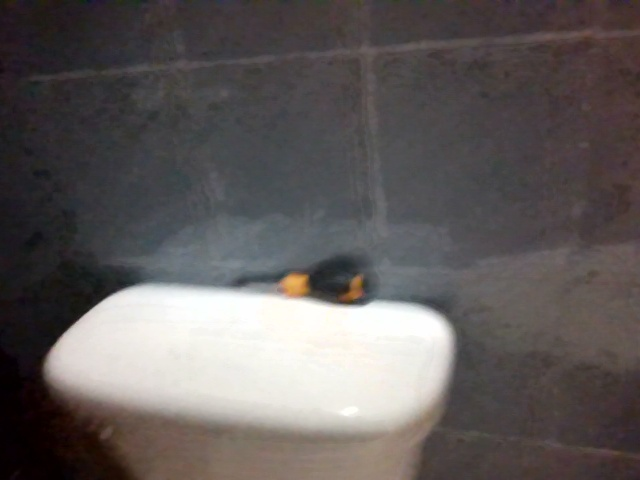destornillador: (224, 253, 371, 305)
